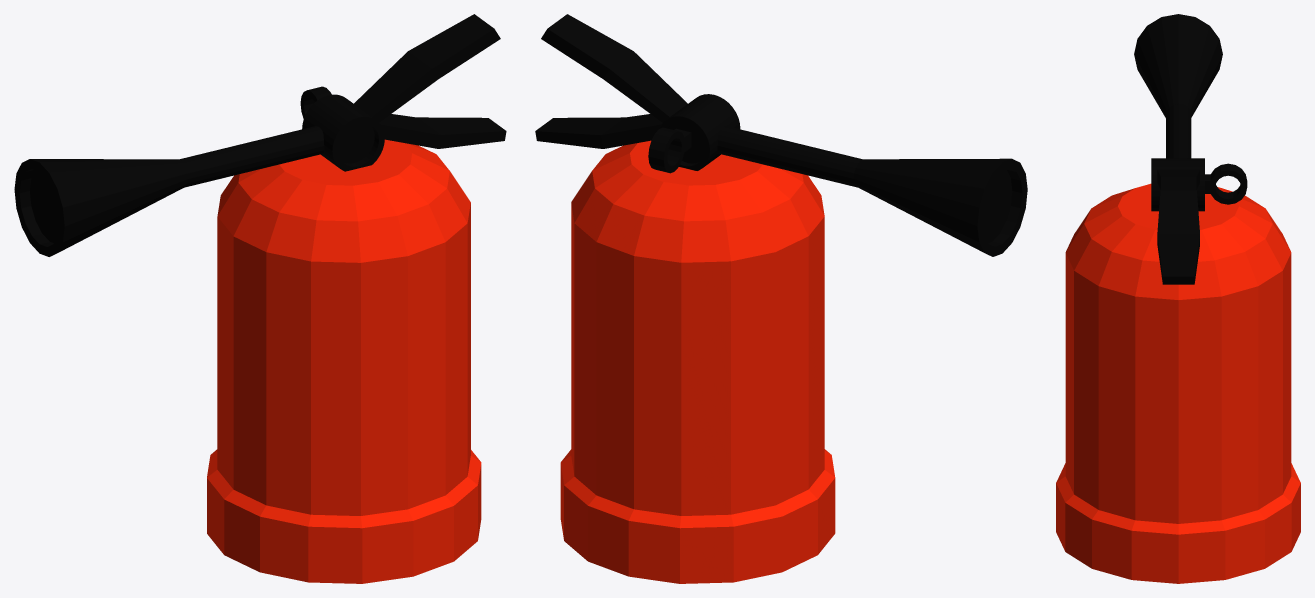
Rendered from APAR.fbx.
3 renders of one model, left to right at view 1: azimuth 30°, elevation 25°; view 2: azimuth 150°, elevation 25°; view 3: azimuth 270°, elevation 25°, orthographic. The views are drawn at different scales.
Visible parts, largest first — view 1: Body, Nozel.001, Handle, Nozel, Round, Handle.001; view 2: Body, Nozel.001, Handle, Nozel, Handle.001, Round, Key; view 3: Body, Nozel.001, Handle.001, Nozel, Round, Key, Handle.
Boxes of the visible parts, x1,y1,x2,y2 form: Body: [207, 139, 481, 583]; Nozel.001: [14, 159, 188, 256]; Handle: [354, 14, 500, 122]; Nozel: [179, 126, 324, 187]; Round: [302, 94, 384, 171]; Handle.001: [379, 114, 506, 148]; Body: [560, 140, 835, 583]; Nozel.001: [853, 158, 1027, 256]; Handle: [541, 14, 687, 122]; Nozel: [717, 126, 862, 187]; Handle.001: [535, 114, 662, 148]; Round: [659, 94, 740, 170]; Key: [648, 127, 691, 173]; Body: [1056, 183, 1300, 583]; Nozel.001: [1134, 14, 1222, 117]; Handle.001: [1157, 190, 1199, 284]; Nozel: [1166, 104, 1191, 158]; Round: [1151, 158, 1204, 211]; Key: [1205, 163, 1247, 204]; Handle: [1157, 169, 1199, 190].
Bounding box in the file's own units: 384 × 377 × 201.
1 material, 1 textured.
